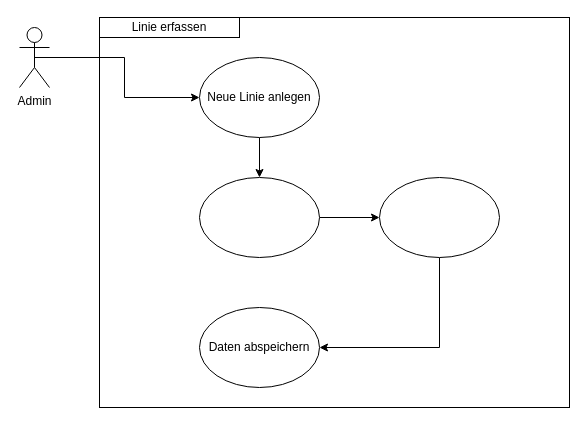
Image size: 587x425. Some labels were removed from this diagram. Here are the shapes that lost their labels. From the top down, the centre of each, then its label:
pixel 259 217: Daten erfassen
pixel 439 217: Start- & Endstation angeben
